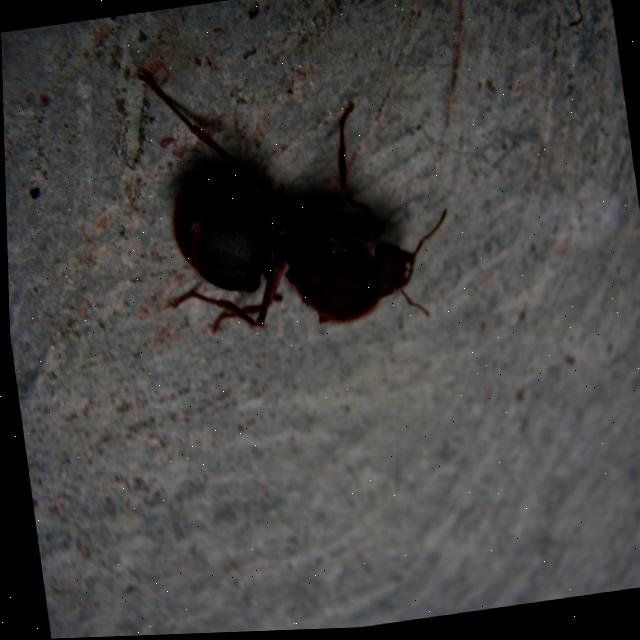Alive-Female-Dealate: (135, 31, 460, 356)
